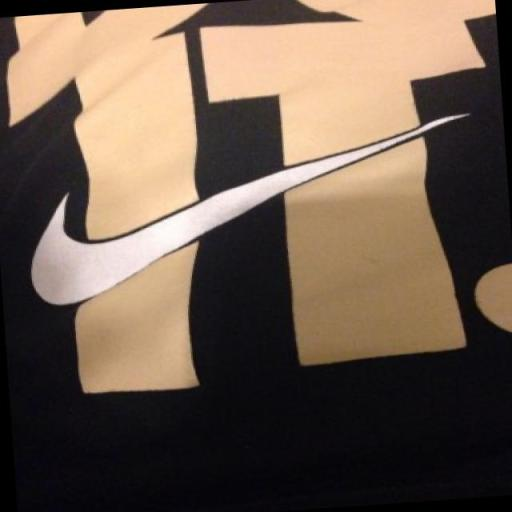Nike: (14, 103, 492, 320)
